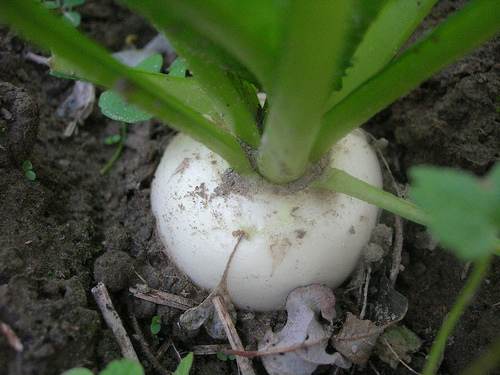turnip: (150, 90, 384, 311)
